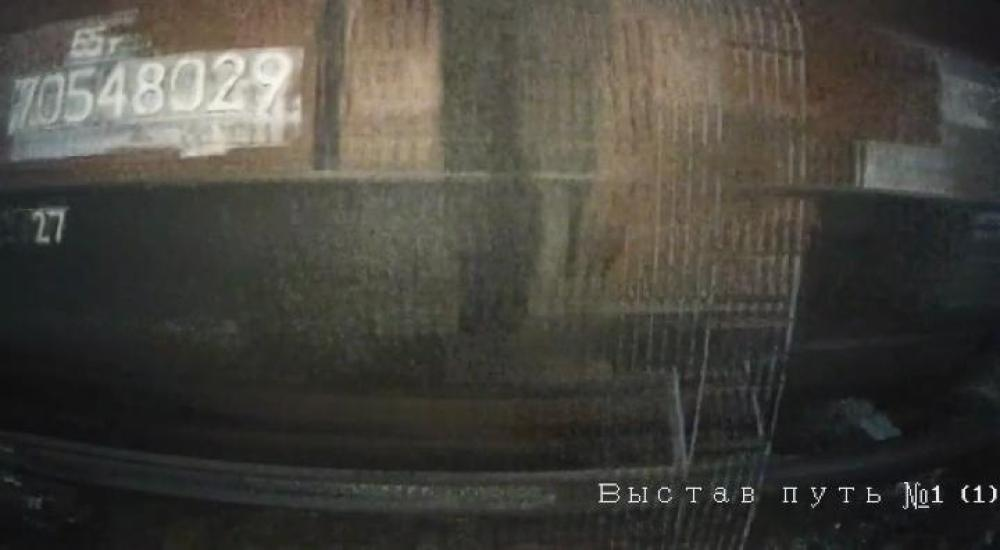Wagon-number: (6, 44, 296, 136)
